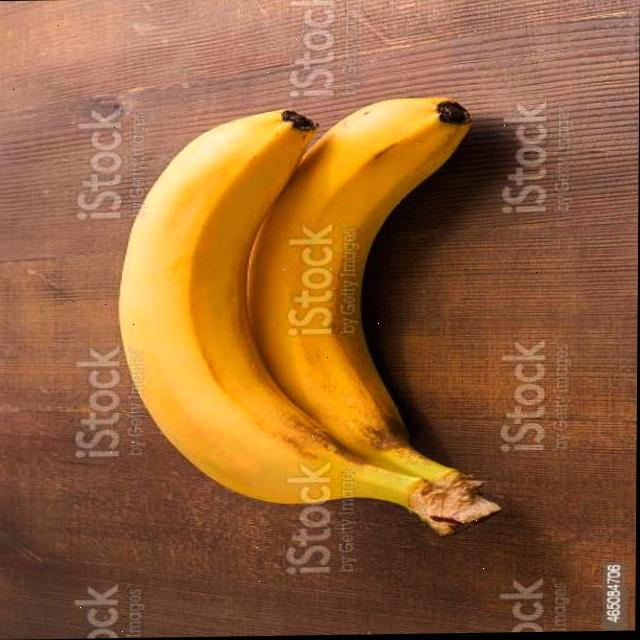banana: (109, 90, 515, 544)
